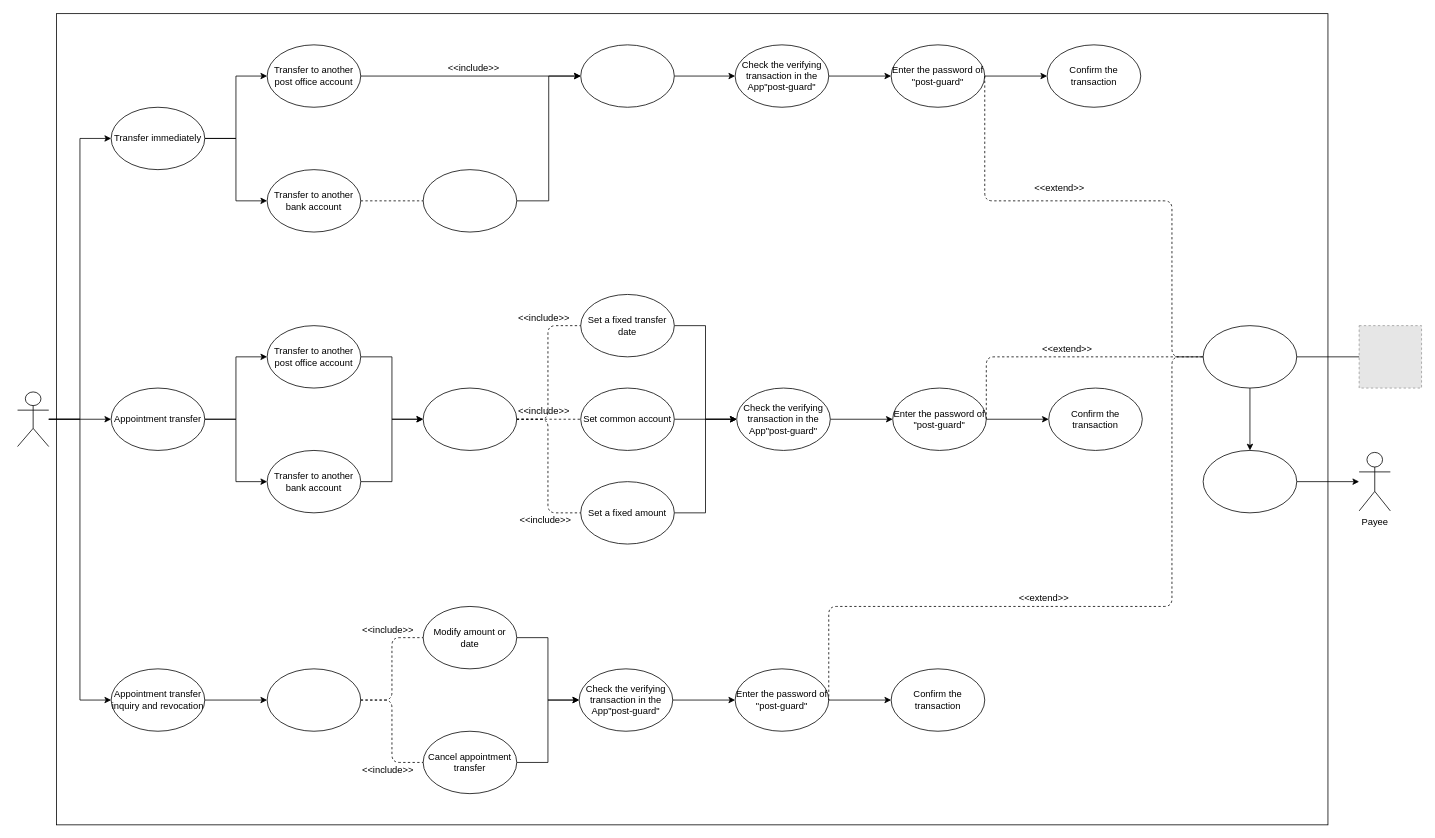
The diagram is 1435 pixels wide and 838 high, and some of its shapes have lost their labels. Grey dashed boxes stand in for pictures. Each missing label, with the centre of its shape:
App User: the point at 33,419
Browse all transfer transactions: the point at 313,699
Deduct money and fee from the user's account: the point at 1249,356
Enter bank code: the point at 469,200
Enter the transfer account: the point at 627,75
Set a fixed transfer: the point at 469,418
Transfer the money to the designated account: the point at 1249,481
